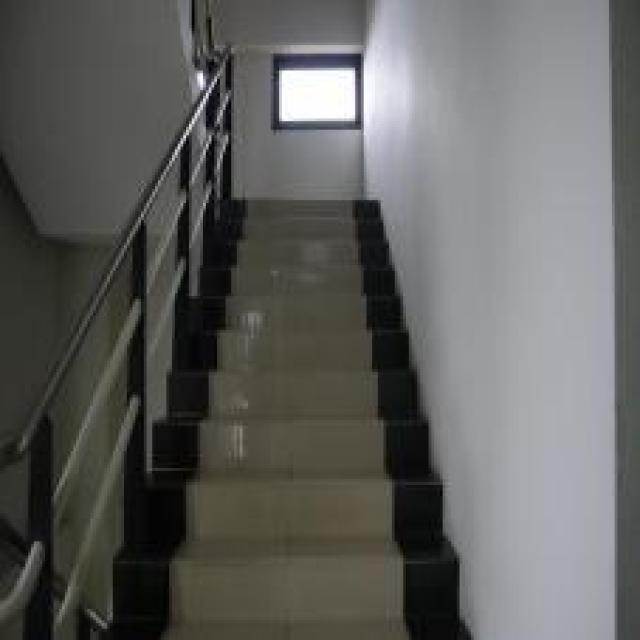upstair: (207, 215, 418, 638)
